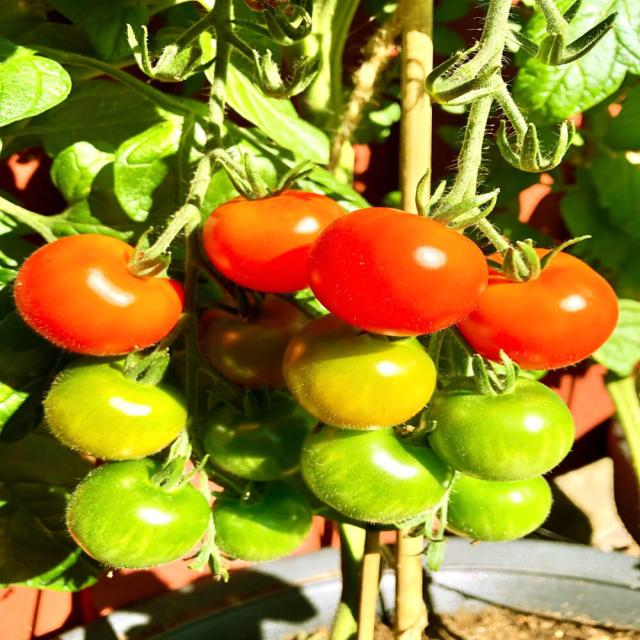level 1: (64, 454, 214, 566), (308, 408, 447, 524), (444, 377, 579, 478), (434, 457, 562, 546), (215, 495, 323, 562), (218, 402, 316, 472)
level 2: (291, 320, 437, 425), (32, 370, 190, 463)
level 5: (15, 235, 186, 352)
level 6: (311, 205, 489, 332), (463, 242, 623, 371), (203, 188, 345, 293)
